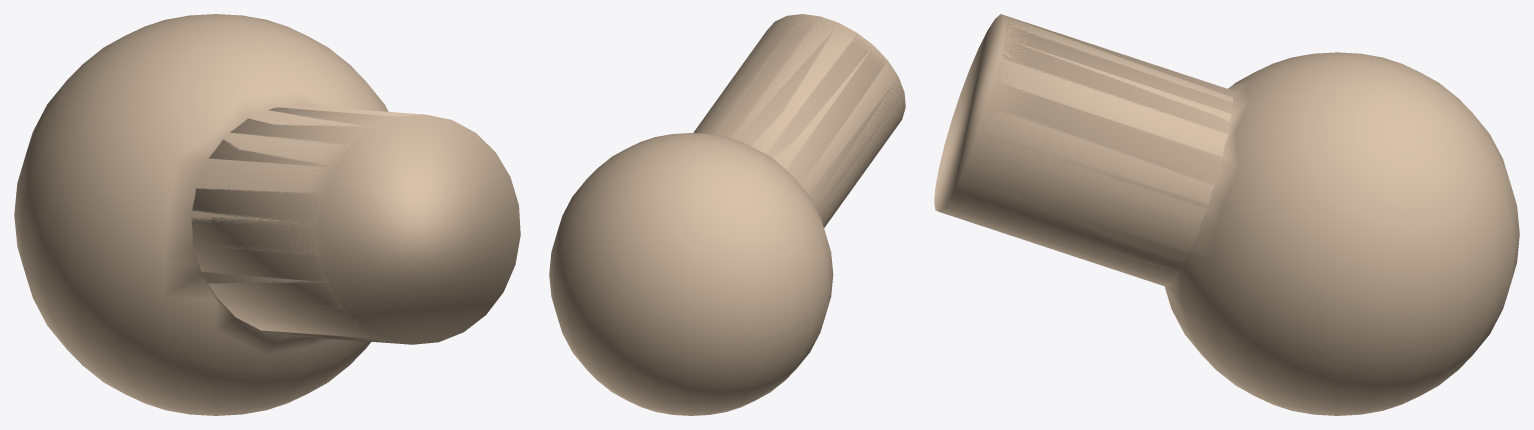
The model's file is test shapes 2.obj.
3 renders of one model, left to right at view 1: azimuth 30°, elevation 25°; view 2: azimuth 150°, elevation 25°; view 3: azimuth 270°, elevation 25°, orthographic. The views are drawn at different scales.
Parts seen in each view (by area): view 1: sphere3, Cylinder6; view 2: sphere3, Cylinder6; view 3: sphere3, Cylinder6.
Part boxes in pixels (x1,y1,x2,y2): sphere3: [14, 14, 422, 415]; Cylinder6: [191, 107, 520, 344]; sphere3: [549, 14, 904, 415]; Cylinder6: [695, 14, 905, 227]; sphere3: [939, 17, 1519, 415]; Cylinder6: [934, 14, 1232, 286].
Size of the model in its own units: 1.75 by 1.99 by 2.81.
